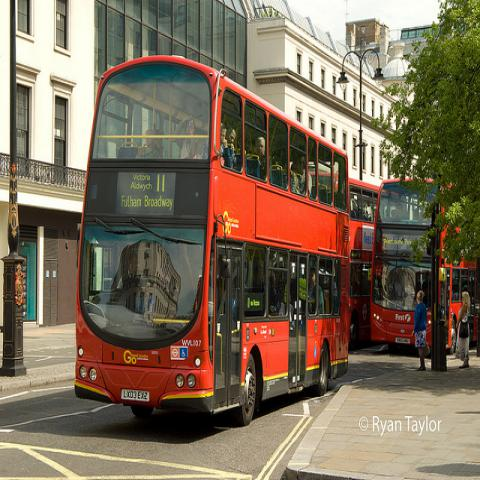bus: (74, 55, 351, 425), (368, 180, 478, 357), (351, 181, 378, 345)
